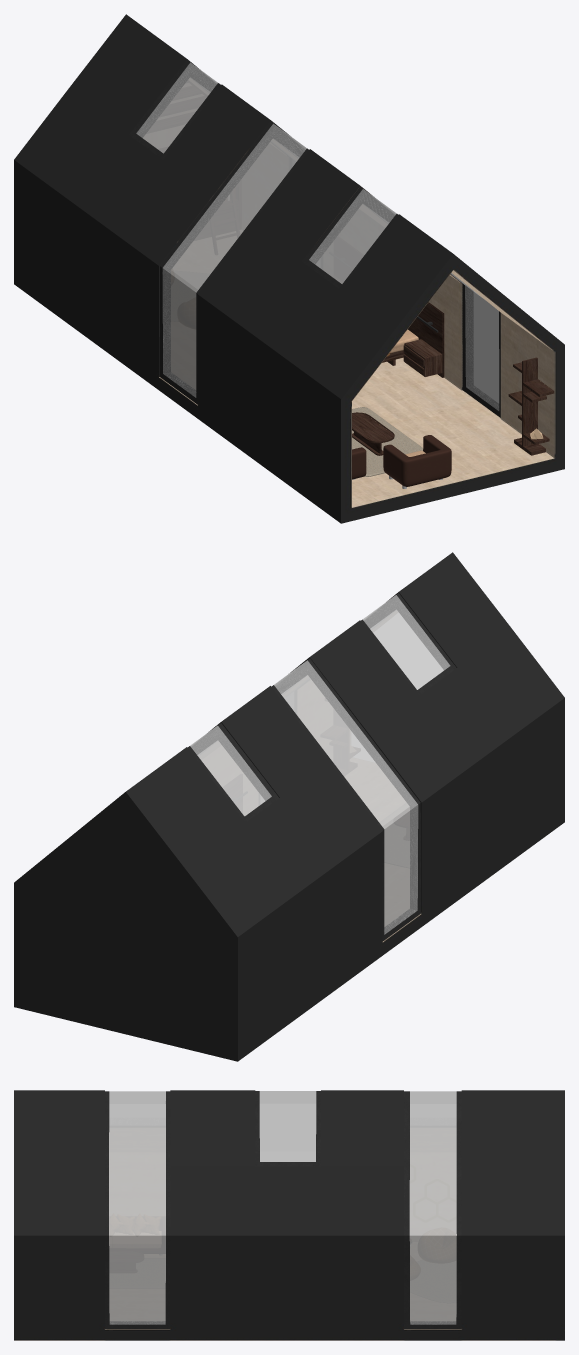
Rendered from interior.glb.
3 renders of one model, top to bottom at view 1: azimuth 30°, elevation 25°; view 2: azimuth 150°, elevation 25°; view 3: azimuth 270°, elevation 25°, orthographic. The views are drawn at different scales.
Visible parts, largest first — view 1: Cube, Cube.005, Cube.004, Cube.003, Cube.001, Cube.006, Cube.021, Cube.023, Cube.002, Cube.024, Cube.009, Cube.022 (+1 smaller); view 2: Cube, Cube.005, Cube.003, Cube.004, Cube.006, Cube.002, Cube.001; view 3: Cube, Cube.004, Cube.006, Cube.005, Cube.002, Cube.001, Cube.003.
Boxes of the visible parts, x1,y1,x2,y2 form: Cube: (14, 14, 564, 523); Cube.005: (162, 123, 306, 397); Cube.004: (309, 189, 499, 410); Cube.003: (159, 122, 308, 404); Cube.001: (302, 187, 500, 417); Cube.006: (136, 62, 217, 153); Cube.021: (383, 435, 451, 486); Cube.023: (508, 357, 554, 455); Cube.002: (129, 60, 220, 159); Cube.024: (352, 407, 423, 476); Cube.009: (408, 302, 444, 377); Cube.022: (352, 412, 394, 455); Cube: (14, 552, 564, 1061); Cube.005: (274, 660, 418, 934); Cube.003: (271, 658, 420, 941); Cube.004: (363, 595, 450, 689); Cube.006: (190, 725, 271, 816); Cube.002: (187, 723, 278, 822); Cube.001: (361, 593, 456, 695); Cube: (14, 1090, 564, 1340); Cube.004: (109, 1091, 165, 1324); Cube.006: (409, 1091, 456, 1324); Cube.005: (259, 1091, 316, 1161); Cube.002: (404, 1091, 461, 1329); Cube.001: (105, 1091, 170, 1329); Cube.003: (255, 1091, 320, 1166).
Size of the model in its own units: 440 by 456 by 1114.
11 materials, 11 textured.
